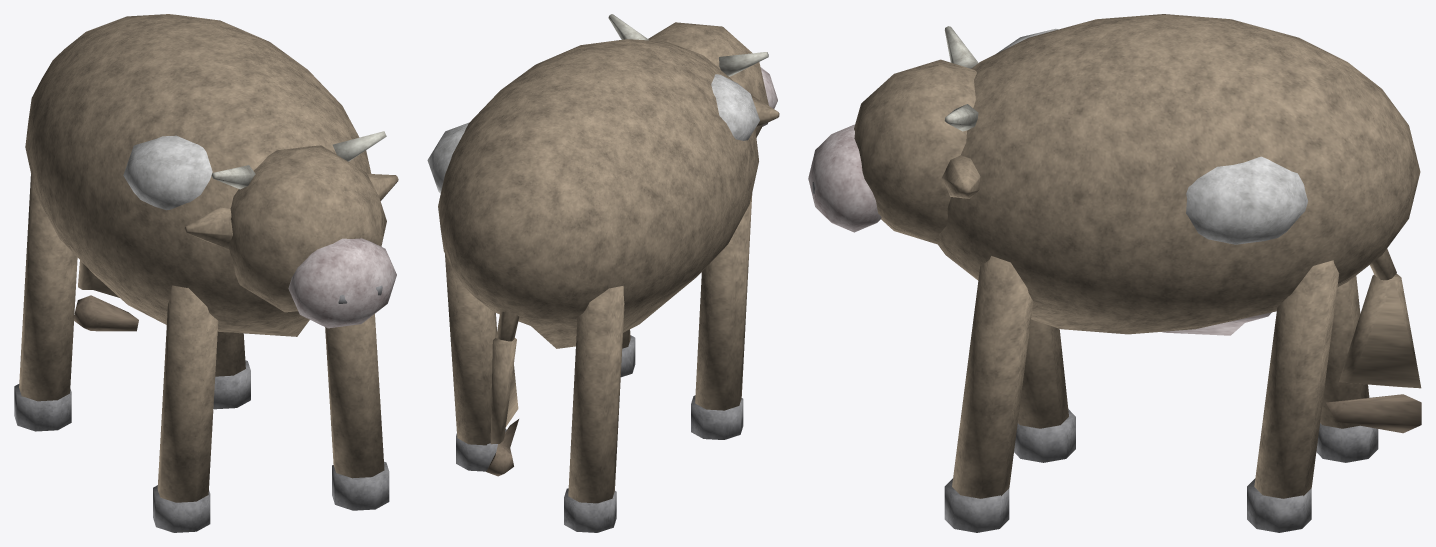
The model's file is mob_sapi_walk3.obj.
3 renders of one model, left to right at view 1: azimuth 30°, elevation 25°; view 2: azimuth 150°, elevation 25°; view 3: azimuth 270°, elevation 25°, orthographic. The views are drawn at different scales.
Parts seen in each view (by area): view 1: mob_sapi; view 2: mob_sapi; view 3: mob_sapi.
Boxes of the visible parts, left/top/right/bottom form: mob_sapi: left=14, top=14, right=398, bottom=532; mob_sapi: left=427, top=14, right=779, bottom=532; mob_sapi: left=808, top=14, right=1421, bottom=532.
Size of the model in its own units: 1.05 by 1.54 by 1.87.
1 material, 1 textured.
